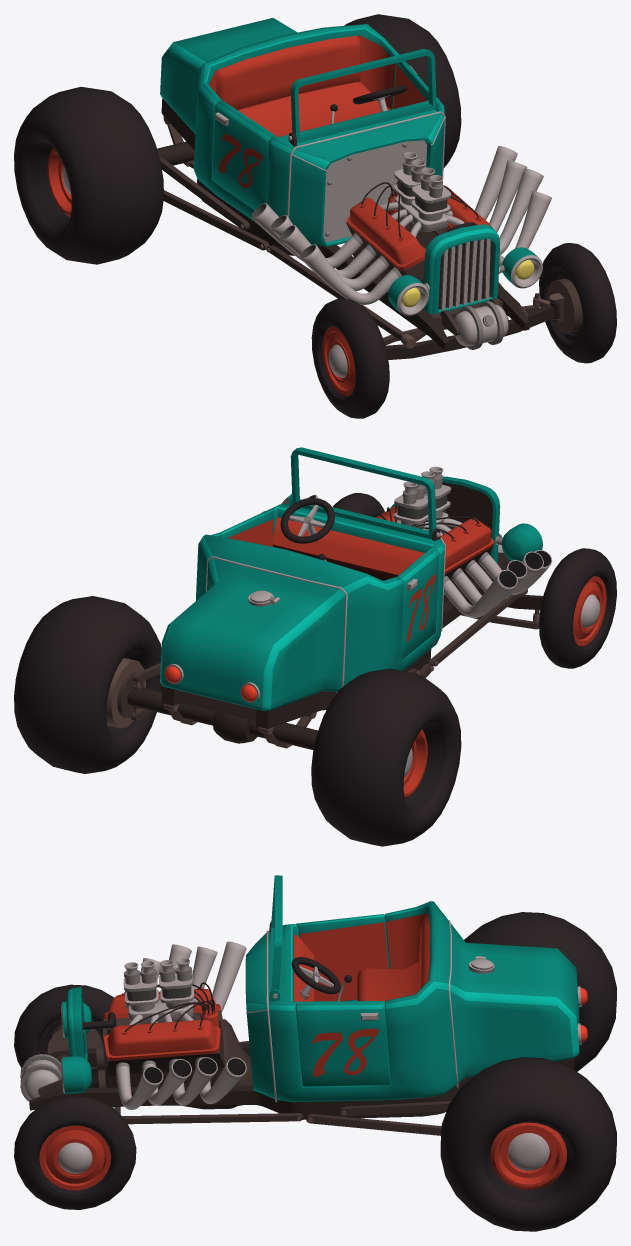
The model's file is Hot Rodfor export.fbx.
3 views of the same model, one above another, from view 1: azimuth 30°, elevation 25°; view 2: azimuth 150°, elevation 25°; view 3: azimuth 270°, elevation 25° (orthographic).
Visible parts, largest first — view 1: Wheel RR, Cabine, NurbsPath.002, Seat spine, Wheel FR, Wheel FL, Cabine.002, Doors, Wheel RL, Seat, Engine.001, Frame (+24 smaller); view 2: Cabine, Wheel RR, Wheel RL, Wheel FR, Cabine.001, Doors, NurbsPath.002, Frame, Window, Rear Axle.001, Engine.001, Hood.002 (+18 smaller); view 3: Cabine, Wheel RL, Wheel FL, Doors, Wheel RR, NurbsPath.002, Frame, Engine.001, Doors.001, Wheel FR, Engine, RL disc (+20 smaller).
Boxes of the visible parts, left/top/right/bottom form: Wheel RR: left=14, top=87, right=163, bottom=264; Cabine: left=160, top=18, right=444, bottom=246; NurbsPath.002: left=251, top=146, right=551, bottom=304; Seat spine: left=215, top=36, right=361, bottom=109; Wheel FR: left=311, top=298, right=389, bottom=418; Wheel FL: left=539, top=243, right=616, bottom=363; Cabine.002: left=323, top=140, right=427, bottom=242; Doors: left=212, top=61, right=428, bottom=209; Wheel RL: left=344, top=14, right=461, bottom=168; Seat: left=238, top=82, right=390, bottom=136; Engine.001: left=346, top=185, right=490, bottom=270; Frame: left=161, top=98, right=529, bottom=350; Cabine: left=160, top=503, right=444, bottom=710; Wheel RR: left=311, top=668, right=461, bottom=846; Wheel RL: left=14, top=596, right=162, bottom=773; Wheel FR: left=539, top=548, right=616, bottom=668; Cabine.001: left=272, top=517, right=424, bottom=575; Doors: left=219, top=508, right=439, bottom=660; NurbsPath.002: left=261, top=494, right=552, bottom=617; Frame: left=161, top=559, right=510, bottom=728; Window: left=290, top=447, right=436, bottom=539; Rear Axle.001: left=127, top=686, right=317, bottom=749; Engine.001: left=376, top=505, right=494, bottom=574; Hood.002: left=442, top=482, right=492, bottom=555; Cabine: left=245, top=901, right=579, bottom=1102; Wheel RL: left=440, top=1057, right=616, bottom=1231; Wheel FL: left=14, top=1095, right=136, bottom=1209; Doors: left=296, top=914, right=391, bottom=1086; Wheel RR: left=464, top=912, right=616, bottom=1071; NurbsPath.002: left=116, top=941, right=246, bottom=1109; Frame: left=29, top=1043, right=574, bottom=1119; Engine.001: left=103, top=988, right=220, bottom=1060; Doors.001: left=300, top=922, right=388, bottom=1001; Wheel FR: left=14, top=984, right=114, bottom=1087; Engine: left=103, top=1011, right=252, bottom=1109; RL disc: left=490, top=1122, right=566, bottom=1189.
Bounding box in the file's own units: 341 × 209 × 463.
